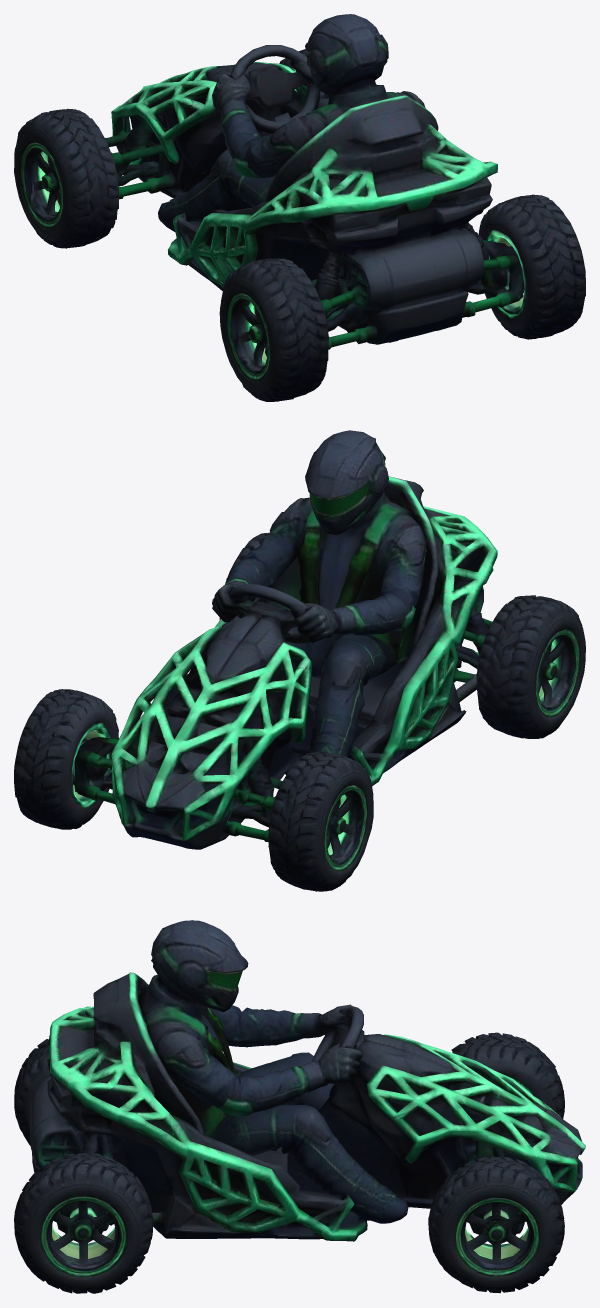
File: gaia-dark.glb
The picture shows the model from 3 angles, top to bottom: view 1: azimuth 30°, elevation 25°; view 2: azimuth 150°, elevation 25°; view 3: azimuth 270°, elevation 25°; orthographic projection.
Parts seen in each view (by area): view 1: chassis, wheel-rl, wheel-fl, wheel-rr; view 2: chassis, wheel-rl, wheel-fl, wheel-fr; view 3: chassis, wheel-rr, wheel-fr, wheel-fl, wheel-rl.
Part boxes in pixels (x1=…): chassis: x1=105, y1=14, x2=515, y2=349; wheel-rl: x1=219, y1=258, x2=329, y2=401; wheel-fl: x1=14, y1=108, x2=120, y2=248; wheel-rr: x1=478, y1=194, x2=585, y2=339; chassis: x1=78, y1=430, x2=497, y2=849; wheel-rl: x1=476, y1=595, x2=585, y2=738; wheel-fl: x1=268, y1=752, x2=373, y2=891; wheel-fr: x1=14, y1=689, x2=118, y2=829; chassis: x1=29, y1=920, x2=585, y2=1241; wheel-rr: x1=14, y1=1153, x2=153, y2=1293; wheel-fr: x1=428, y1=1156, x2=564, y2=1293; wheel-fl: x1=451, y1=1032, x2=564, y2=1118; wheel-rl: x1=14, y1=1039, x2=50, y2=1145.
Size of the model in its own units: 2.81 by 2.61 by 4.5.
Materials: 1 (1 with a texture image).
